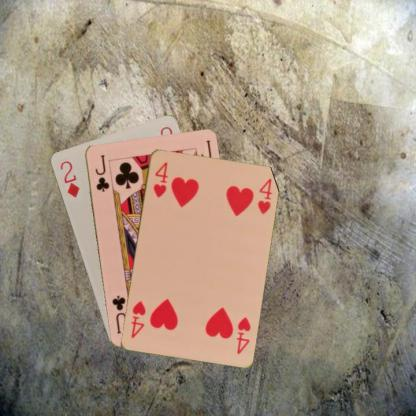2d: (57, 158, 81, 198)
4h: (233, 314, 252, 355), (150, 159, 169, 199)
Jc: (92, 152, 110, 193)
